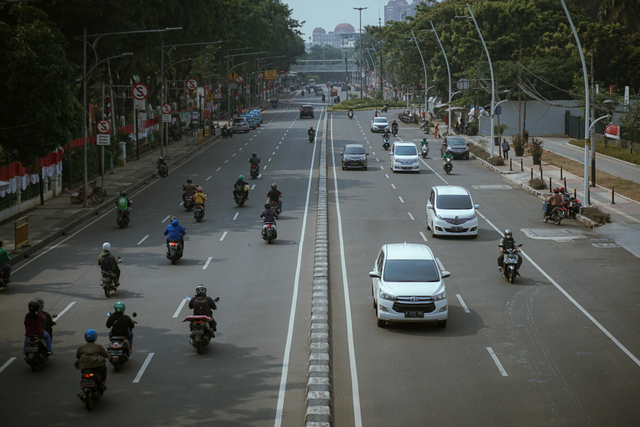mobil: (364, 233, 456, 332), (418, 175, 487, 242), (386, 133, 426, 175), (337, 135, 372, 173)
sepeda: (71, 325, 110, 413), (175, 281, 224, 351), (16, 292, 57, 367), (103, 295, 139, 372), (490, 220, 527, 289), (90, 232, 128, 298), (157, 207, 193, 269)
